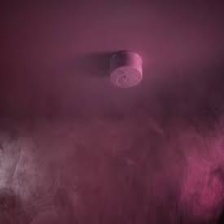smoke: (176, 143, 224, 203), (4, 147, 35, 199)
